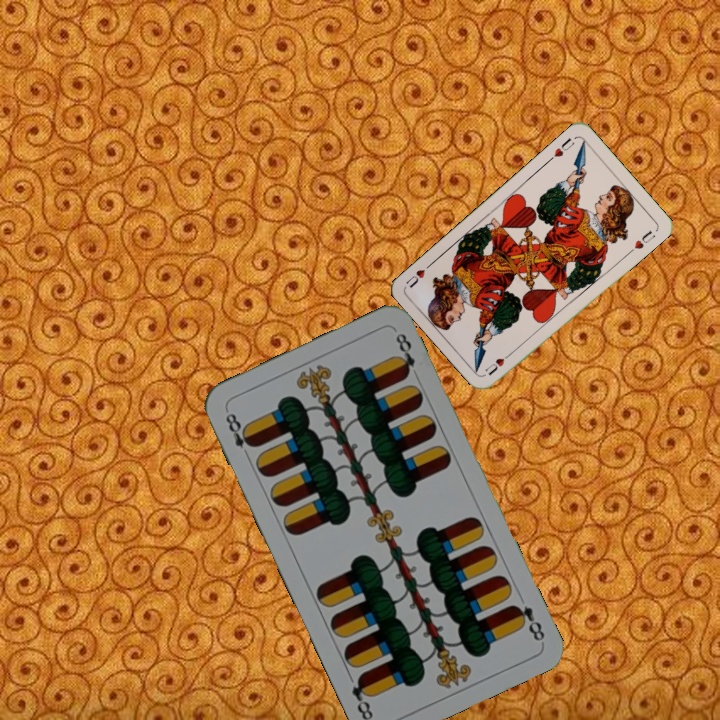E8: (221, 409, 258, 462), (508, 600, 548, 644)
HU: (481, 348, 515, 378), (545, 134, 577, 164)
